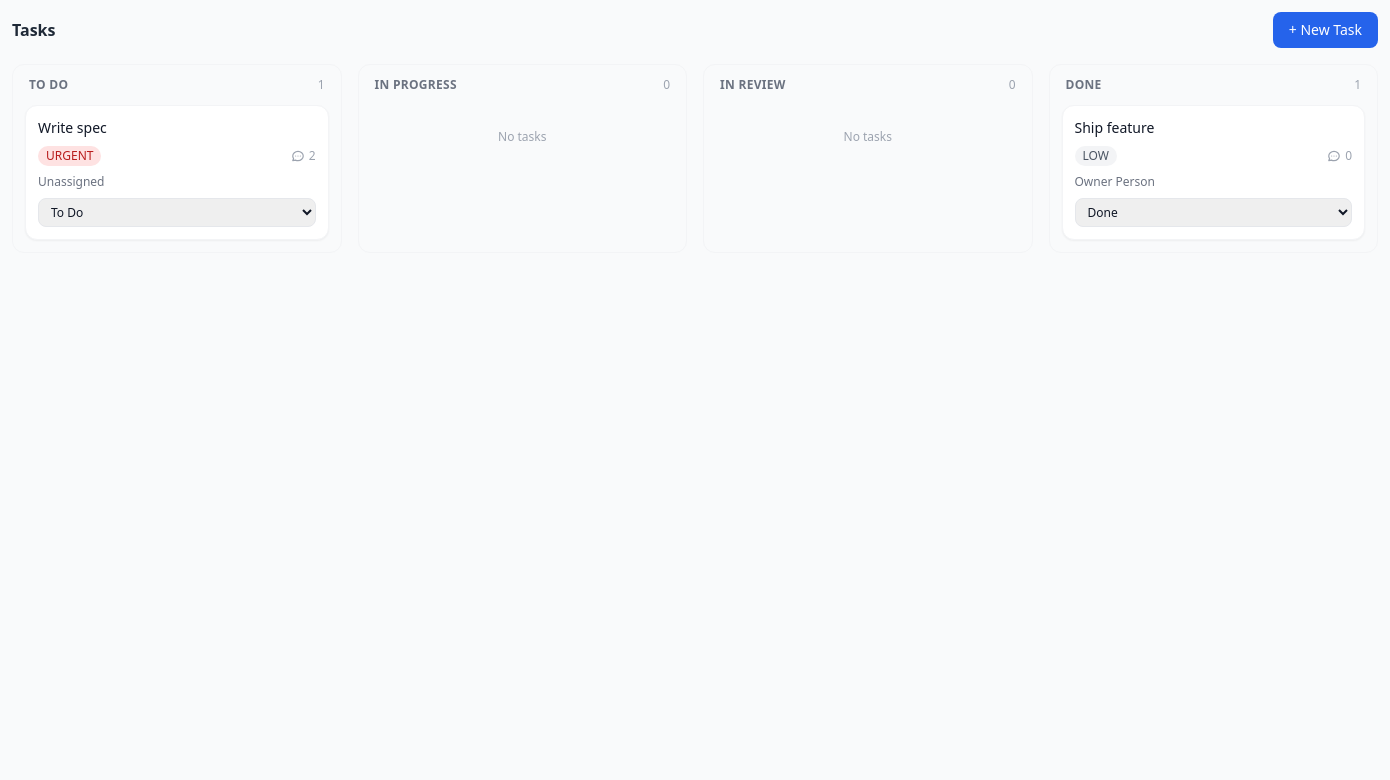
Test: KanbanBoard › opens the new task form and creates a task
The width and height of the screenshot is (1390, 780).
expect the link "Write spec" is shown: met, box 38,118 -> 107,137
Click the button "+ New Task". click: coordinates (1325, 30)
box: 1273,12 -> 1378,48
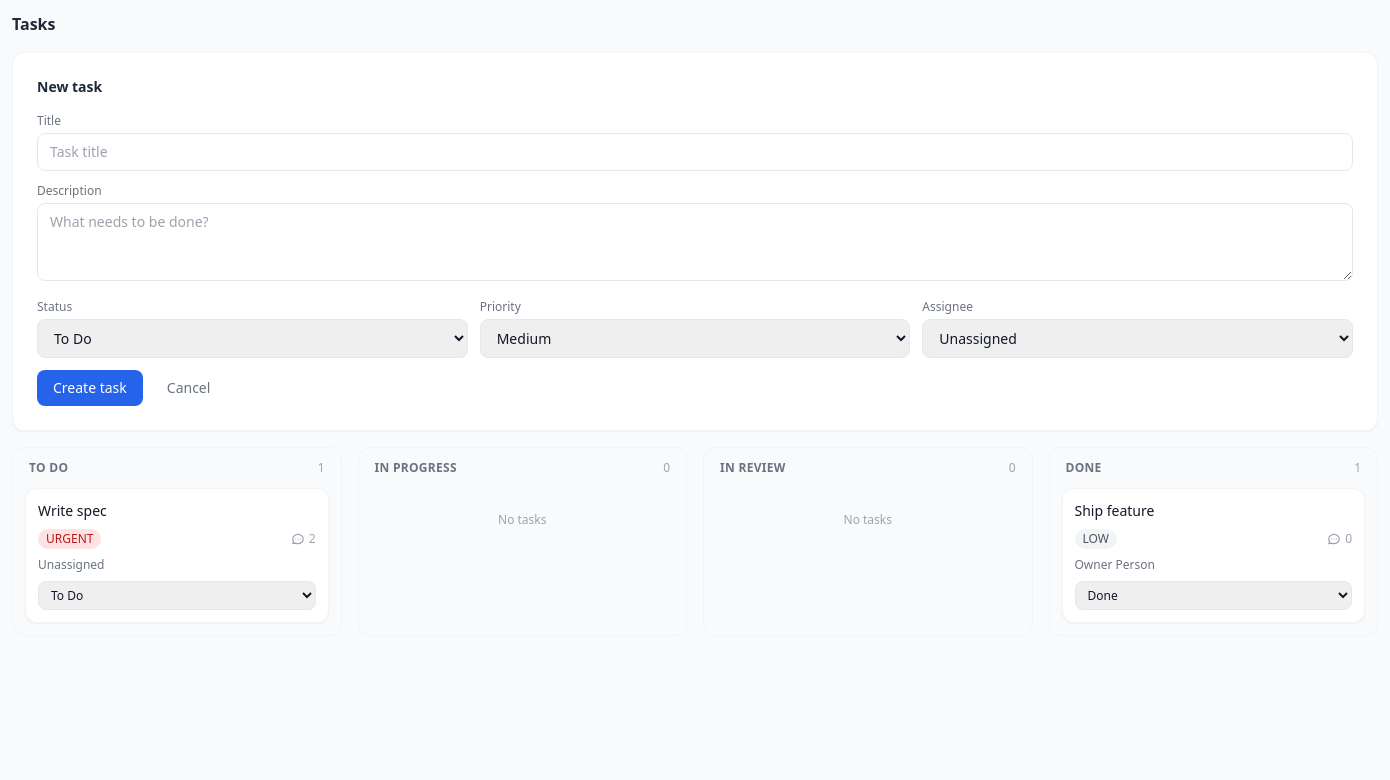
Type "Brand new task" into the field labelled "Title". click: coordinates (695, 152)
box: 37,133 -> 1353,171
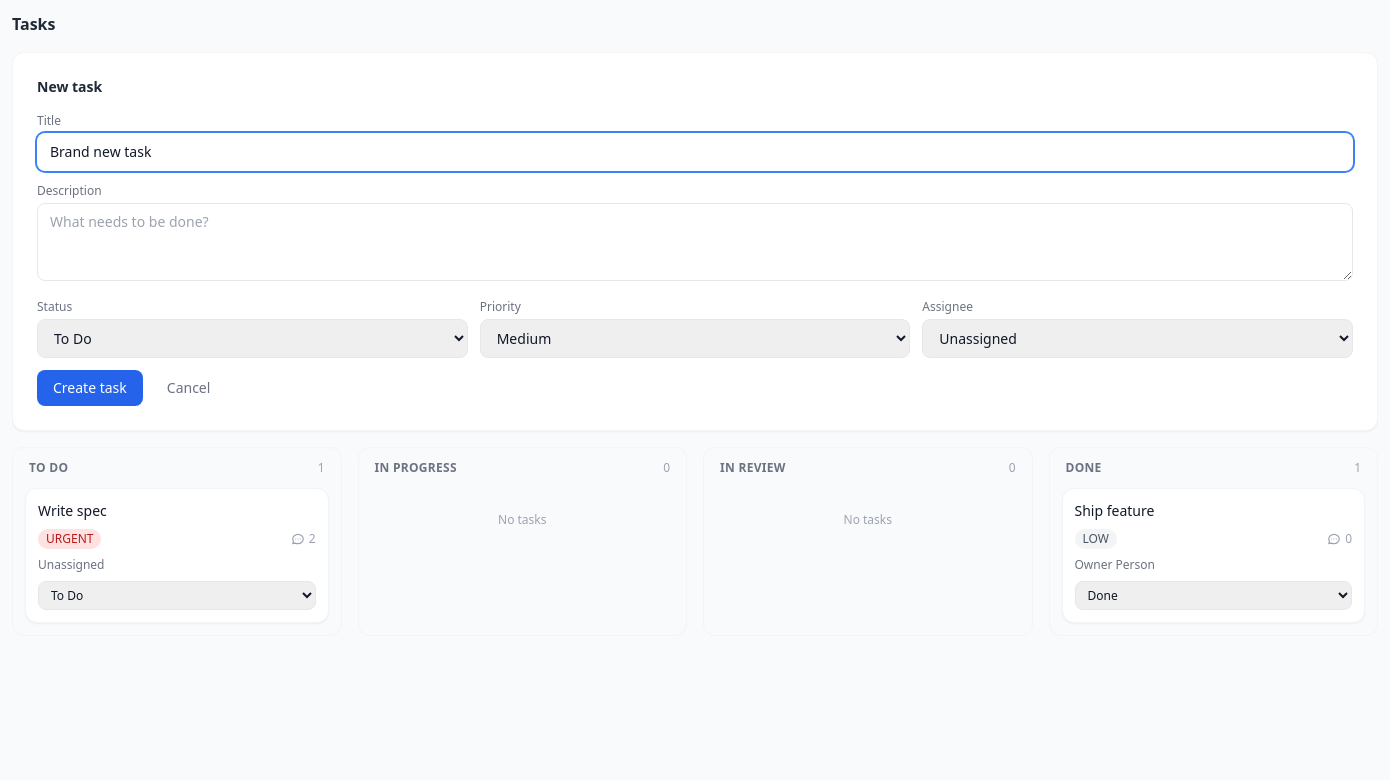
Click the button "Create task". click: coordinates (90, 388)
box: 37,370 -> 143,406
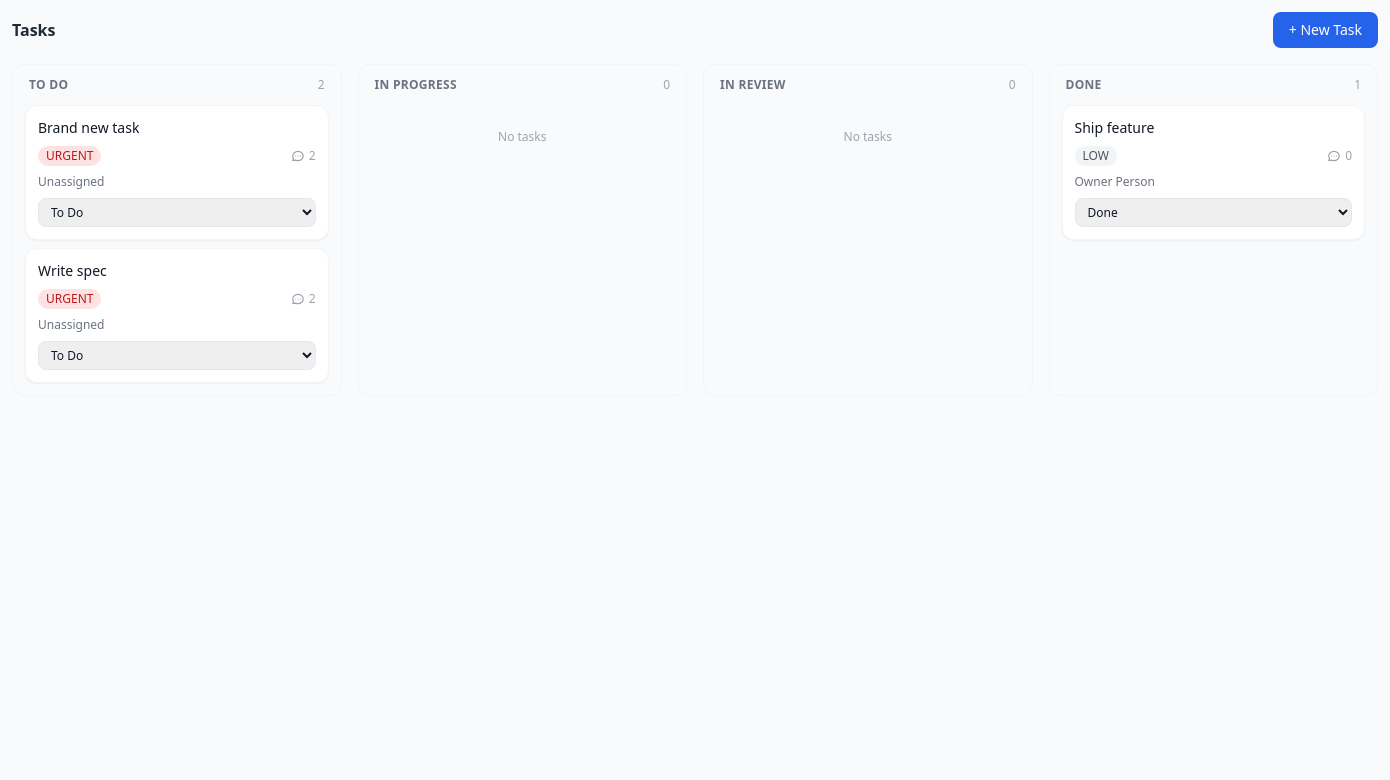
expect the link "Brand new task" is shown: met, box 38,118 -> 139,137
expect the label labelled "Title" is gone: met
